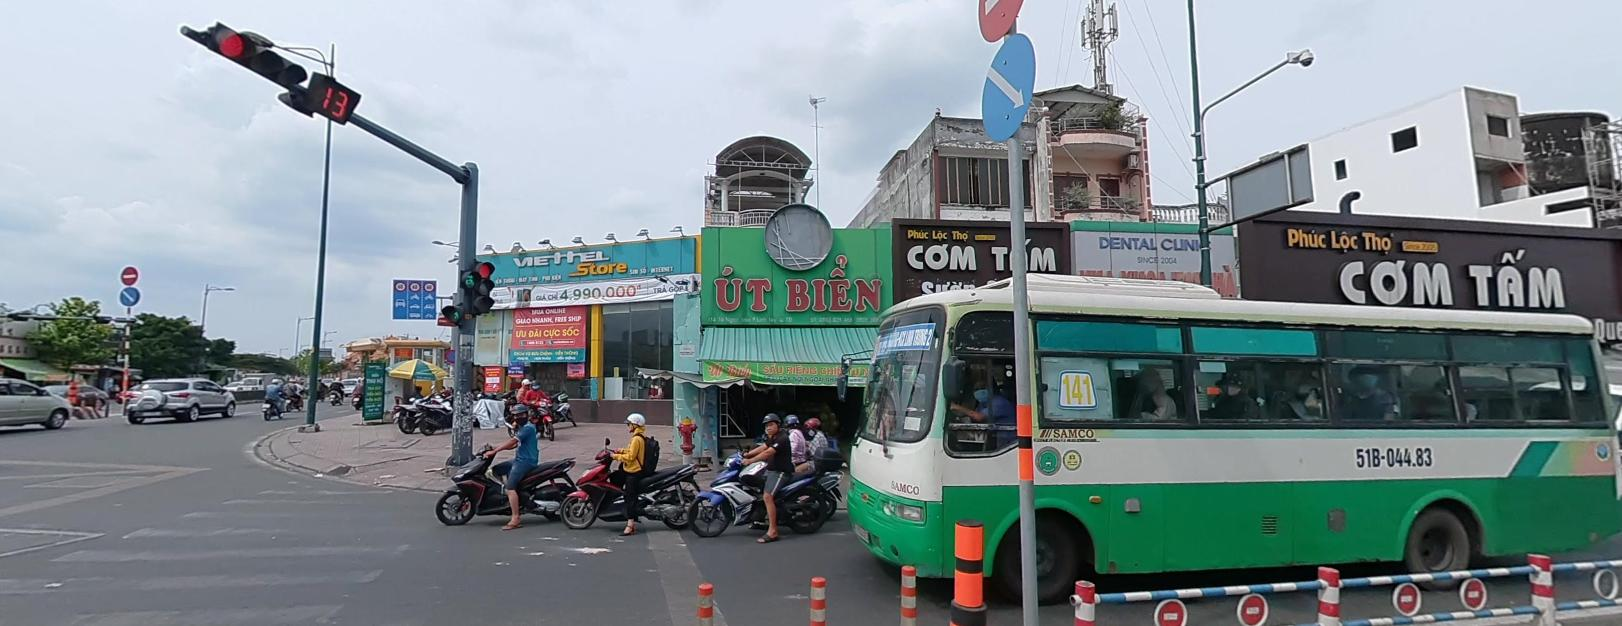Cam dung va do: (444, 346, 457, 361)
Cam nguoc chieu: (969, 1, 1019, 41), (118, 263, 138, 285)
Gioi han toc do: (394, 278, 405, 289), (409, 279, 419, 289), (424, 280, 434, 290)
Hieu lenh: (978, 37, 1038, 141), (117, 284, 140, 305)
